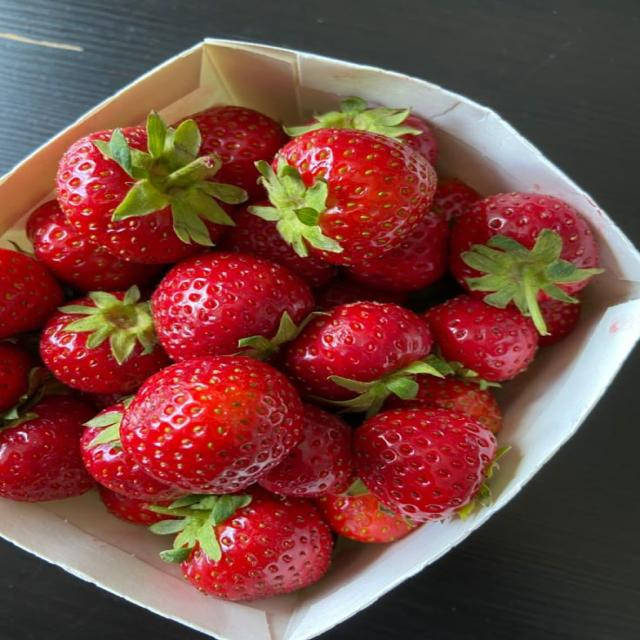strawberry: (57, 113, 246, 263), (250, 129, 436, 264), (120, 356, 303, 493), (451, 192, 601, 333), (152, 487, 333, 600), (152, 252, 313, 361), (285, 303, 437, 411), (354, 408, 497, 522), (40, 286, 170, 394), (27, 200, 162, 292), (80, 400, 185, 502), (286, 97, 438, 165), (424, 294, 538, 382), (0, 395, 94, 501), (217, 207, 336, 287), (189, 105, 288, 198), (259, 404, 352, 497), (346, 213, 449, 292), (385, 375, 501, 433), (315, 479, 416, 542), (0, 248, 63, 338), (314, 278, 407, 310), (98, 485, 171, 525), (0, 341, 36, 414), (434, 177, 481, 221), (539, 299, 581, 347)
